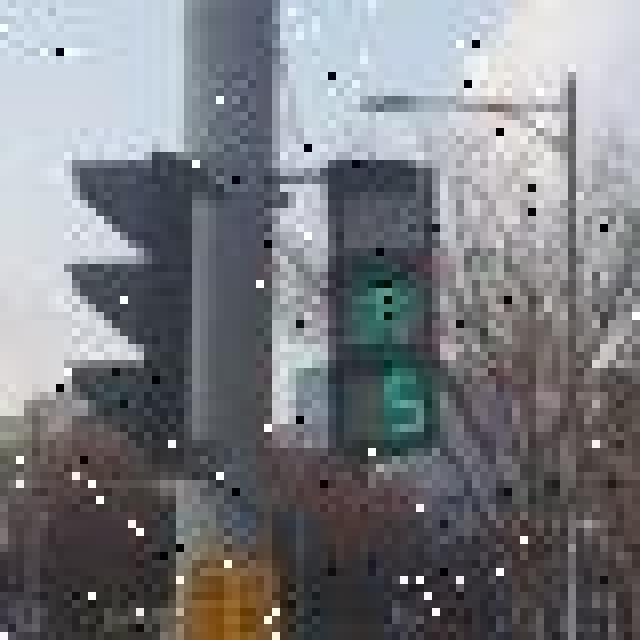greenlight: (321, 150, 442, 354)
